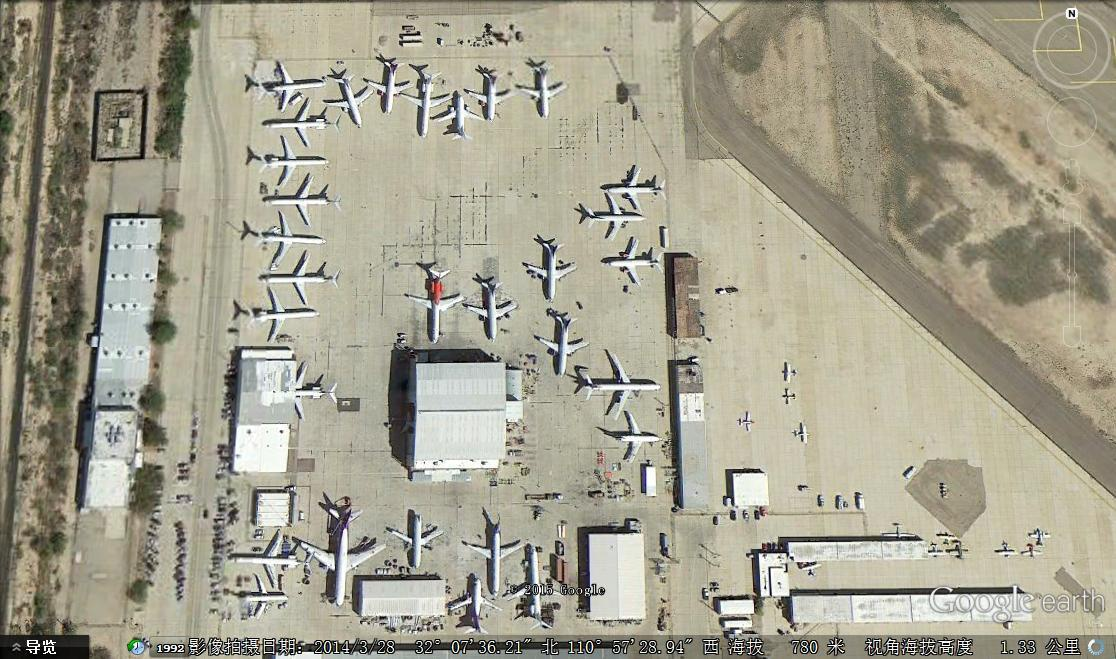aircraft: (297, 503, 389, 611), (500, 542, 571, 633), (457, 515, 533, 598), (581, 350, 665, 421), (259, 172, 353, 231), (259, 250, 348, 310), (402, 266, 464, 349), (243, 286, 327, 347), (223, 535, 317, 589), (252, 208, 332, 270), (260, 97, 349, 152), (255, 133, 333, 195), (517, 234, 583, 303), (250, 60, 328, 114), (397, 69, 454, 140), (533, 309, 591, 378), (444, 577, 505, 638), (386, 510, 447, 570), (223, 570, 292, 623), (317, 70, 374, 133), (600, 167, 671, 217), (602, 237, 668, 289), (464, 280, 518, 343), (290, 363, 346, 422), (583, 194, 650, 242), (515, 64, 568, 123), (464, 65, 515, 126), (434, 89, 488, 145), (363, 57, 412, 118), (616, 410, 665, 467), (733, 407, 759, 437), (946, 540, 975, 564), (1015, 540, 1045, 563), (790, 420, 814, 448), (1027, 524, 1053, 549), (993, 540, 1020, 564), (936, 526, 962, 548), (801, 560, 826, 580), (782, 358, 801, 384), (927, 542, 948, 564), (782, 388, 800, 406)
